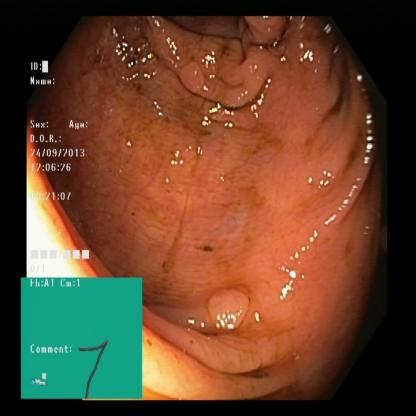Labels: (19, 275, 143, 400), (32, 56, 97, 278)
Polyps: (198, 275, 262, 340)
